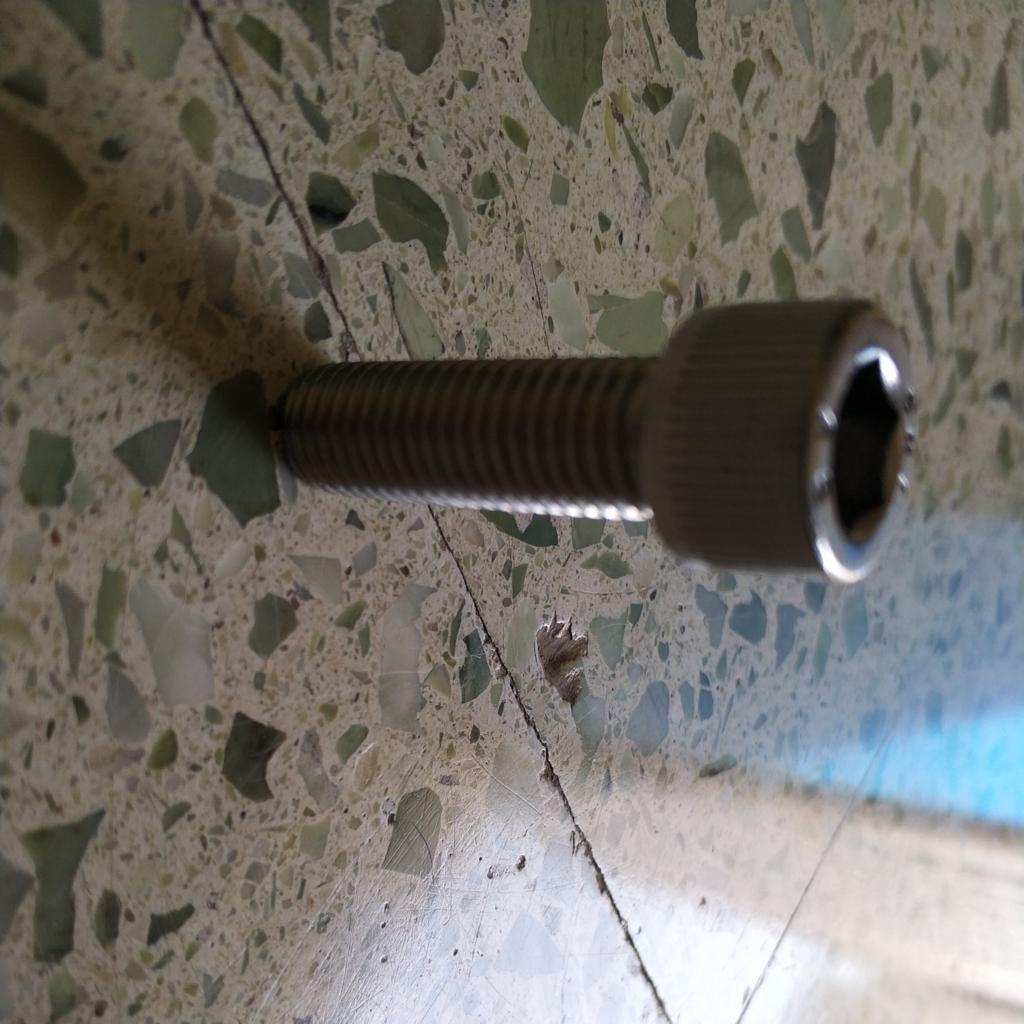screwtype1silver: (268, 292, 918, 595)
